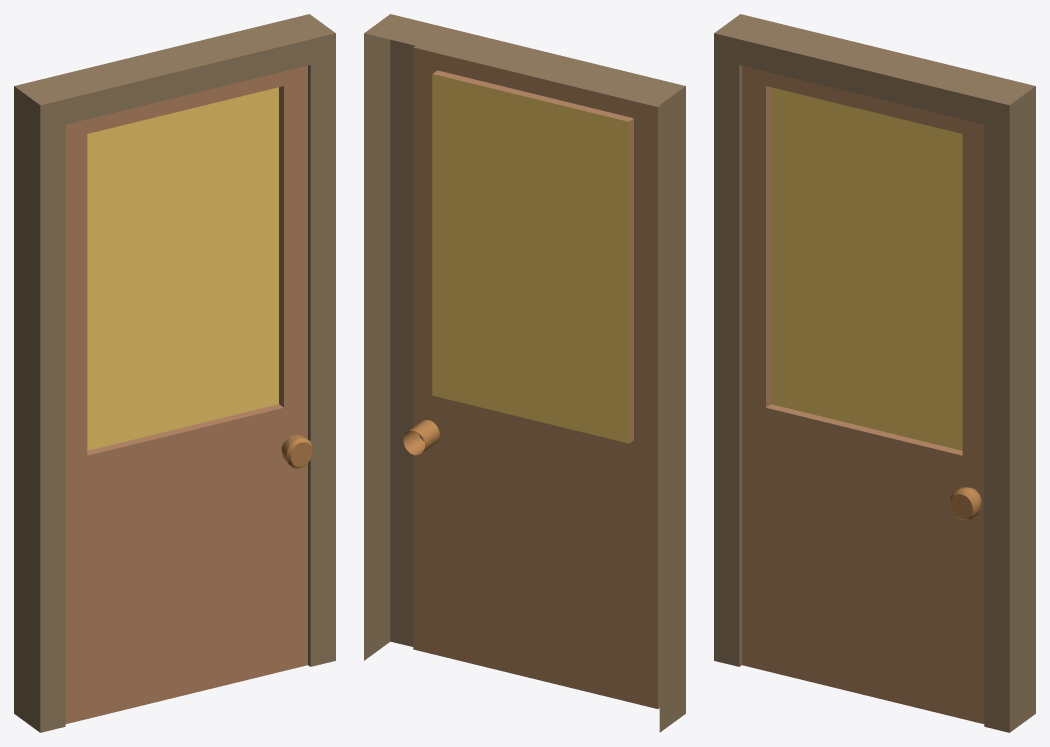
File: 6 door.fbx
The picture shows the model from 3 angles, left to right: view 1: azimuth 30°, elevation 25°; view 2: azimuth 150°, elevation 25°; view 3: azimuth 330°, elevation 25°; orthographic projection.
Visible parts, largest first — view 1: 5 door; view 2: 5 door; view 3: 5 door.
Boxes of the visible parts, x1,y1,x2,y2 form: 5 door: (14,14,335,732); 5 door: (364,14,685,732); 5 door: (714,14,1035,732).
Size of the model in its own units: 50.43 by 102 by 9.78.
